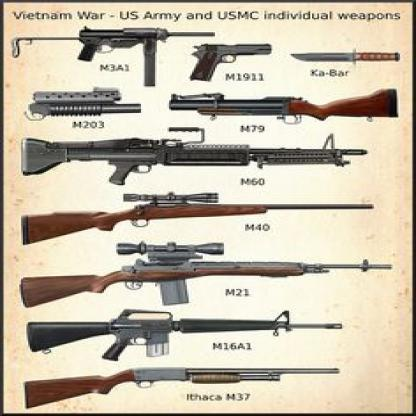Gun: (20, 241, 394, 309), (20, 124, 370, 187), (18, 188, 375, 246), (24, 308, 345, 362), (23, 366, 340, 410), (9, 24, 217, 87), (165, 87, 400, 125), (22, 86, 145, 124)
Knife: (288, 47, 402, 67)
Pistol: (188, 42, 272, 83)
